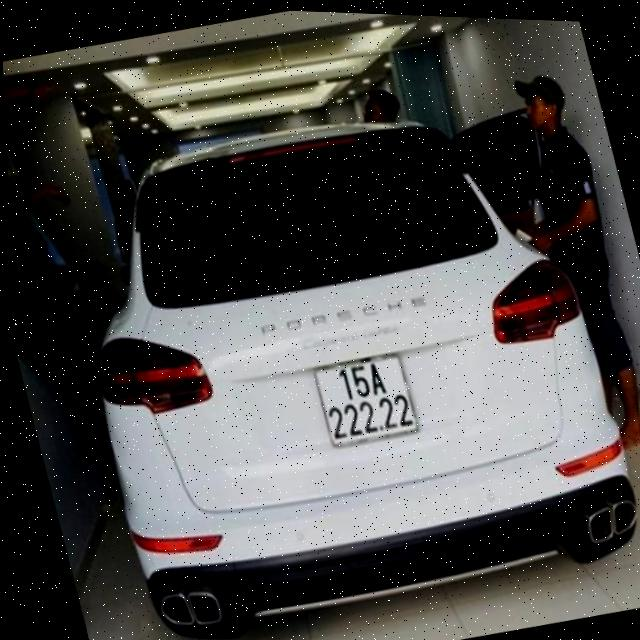car: (30, 50, 640, 640)
plate: (295, 338, 436, 464)
